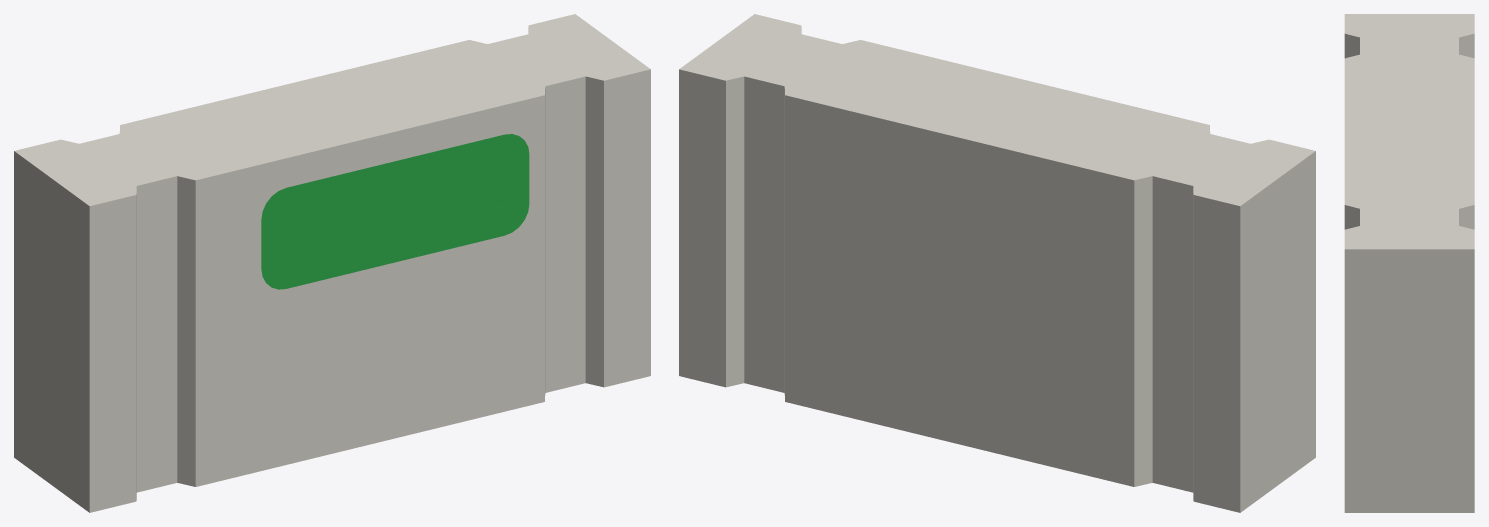
Rendered from unidad_hibrida.obj.
The picture shows the model from 3 angles, left to right: view 1: azimuth 30°, elevation 25°; view 2: azimuth 150°, elevation 25°; view 3: azimuth 270°, elevation 25°; orthographic projection. The views are drawn at different scales.
Parts seen in each view (by area): view 1: unidad_hibrida_cuerpo, unidad_hibrida_verde; view 2: unidad_hibrida_cuerpo; view 3: unidad_hibrida_cuerpo.
Part boxes in pixels (x1,y1,x2,y2): unidad_hibrida_cuerpo: (14, 14, 650, 512); unidad_hibrida_verde: (261, 134, 529, 289); unidad_hibrida_cuerpo: (679, 14, 1315, 512); unidad_hibrida_cuerpo: (1344, 14, 1474, 512).
Size of the model in its own units: 180 by 94.1 by 42.1.
